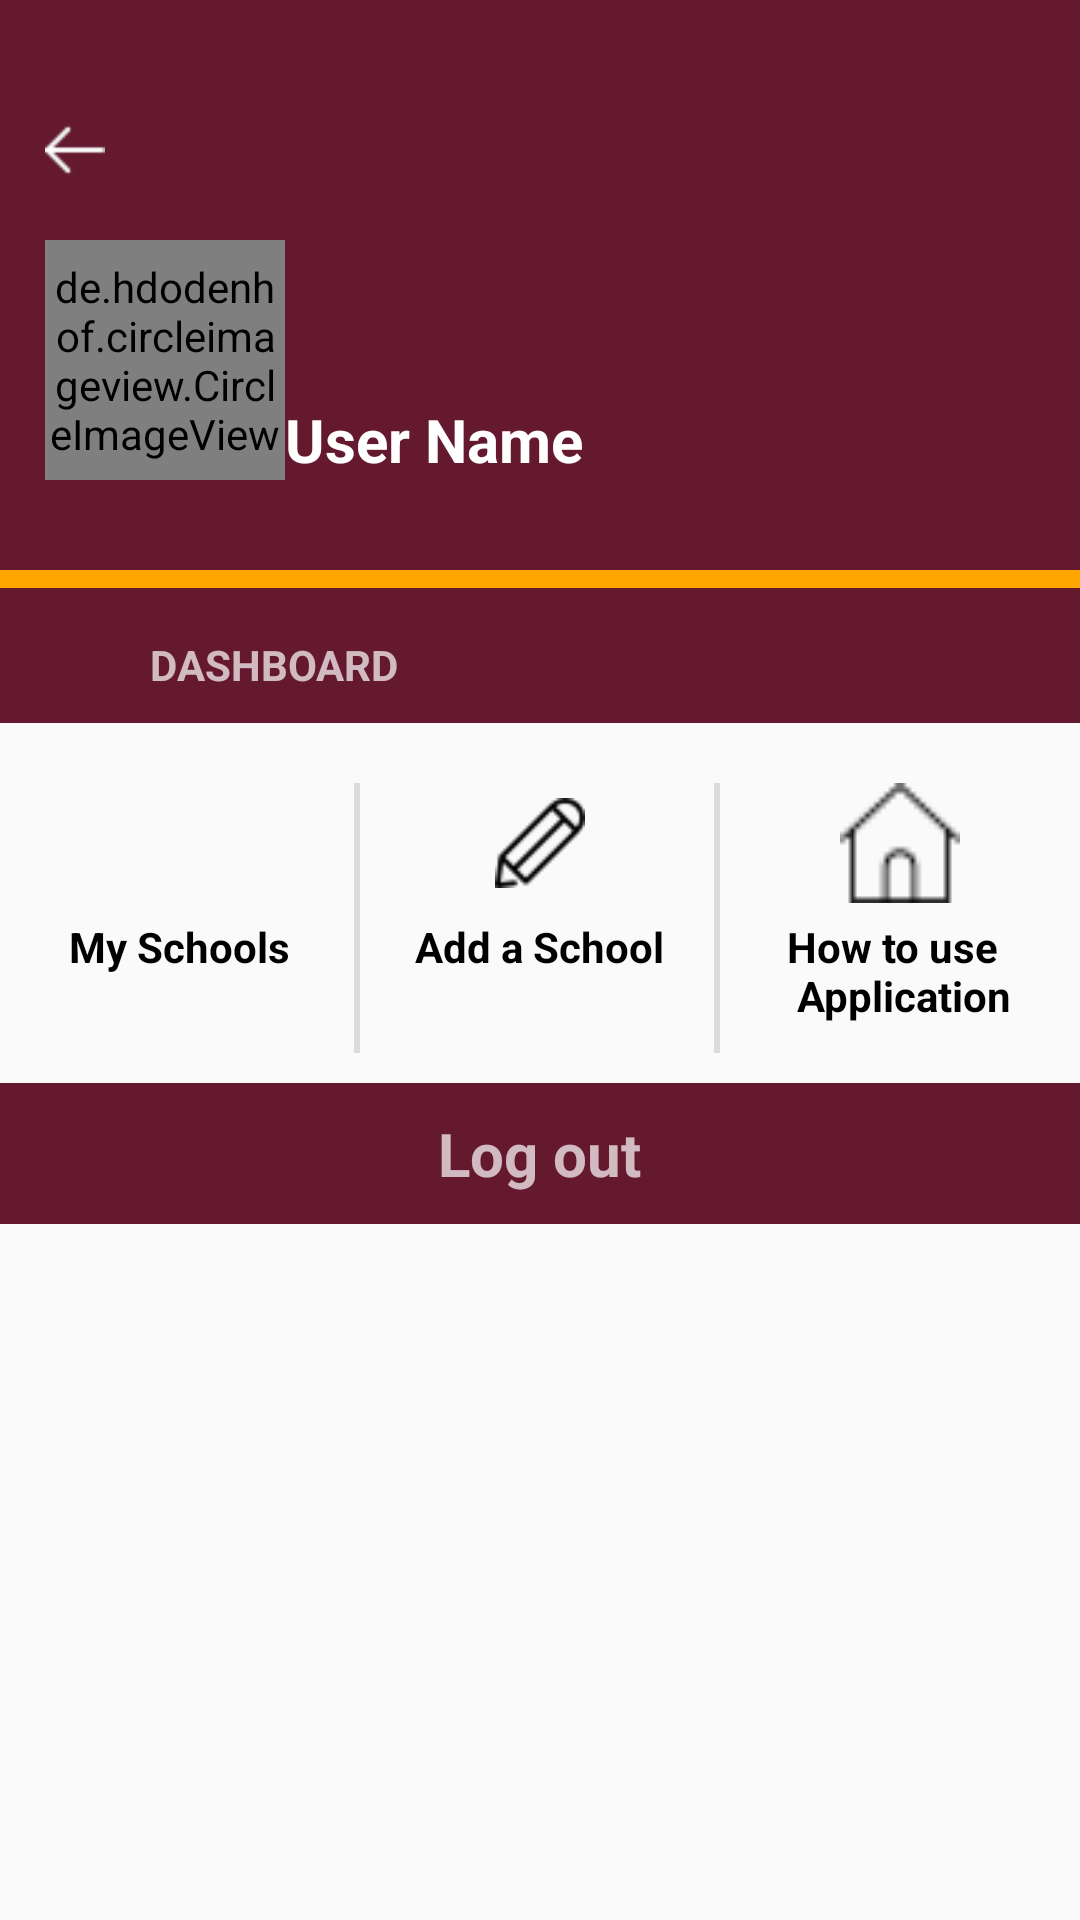

Locate icon controls on the screen. Image size 1080px x 1920px, boxes as box(x1, y1, x2, y2).
back: box(45, 126, 105, 174)
edit: box(495, 798, 585, 888)
home: box(840, 783, 960, 903)
